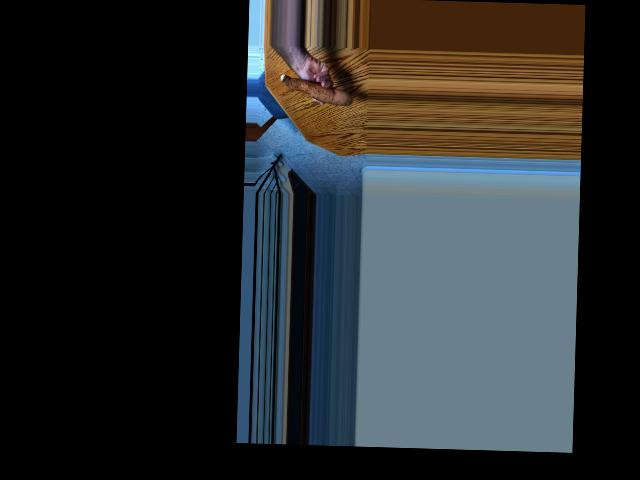sweet_potato: (280, 67, 350, 109)
